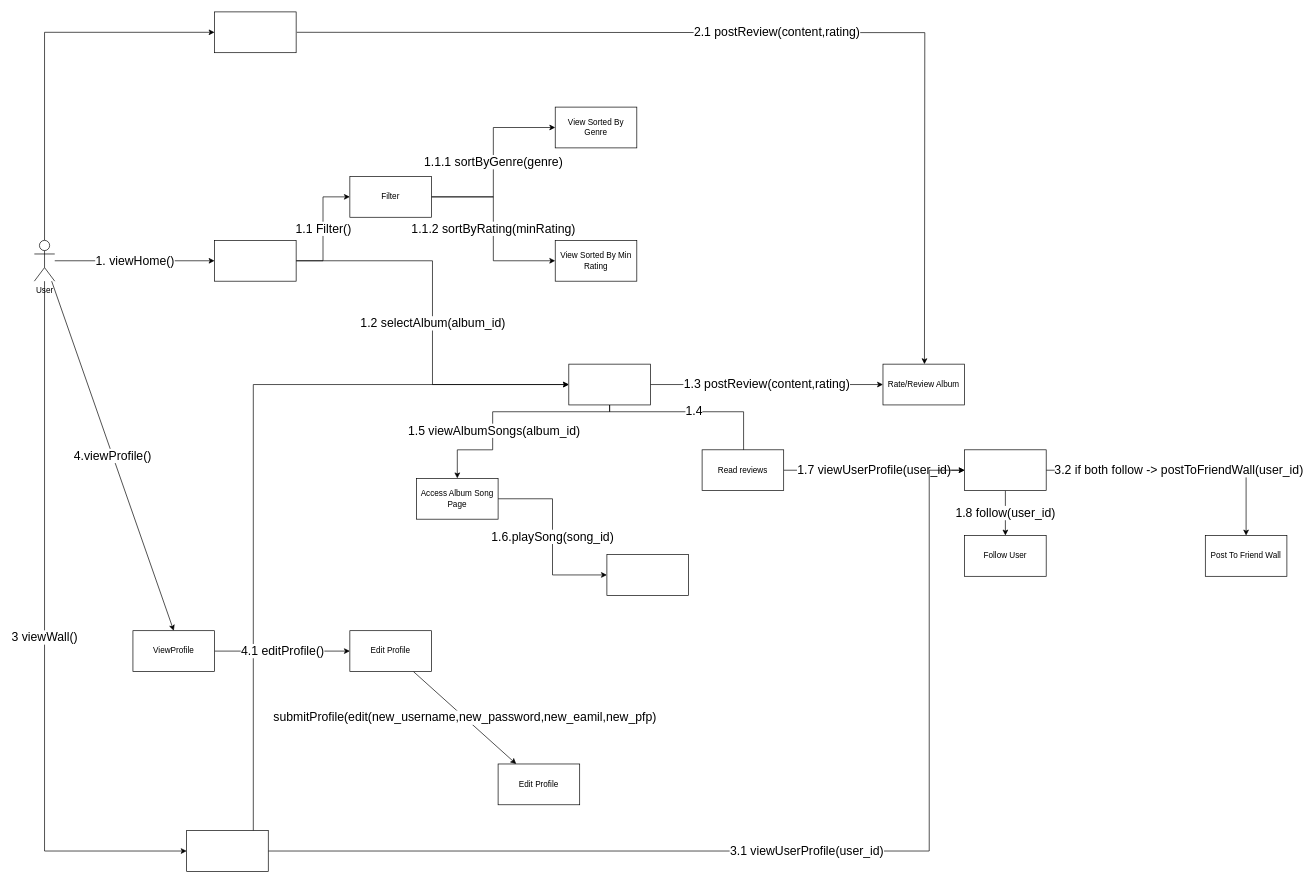
Image size: 1315x883. Some labels were removed from this diagram. Each missing label, with the box of its shape:
Access Album Page: (568, 363, 650, 405)
Listen To Song: (606, 554, 688, 595)
View For You Page: (214, 11, 296, 53)
View HomePage: (214, 240, 296, 281)
View User Profile: (964, 449, 1046, 491)
View Wall: (186, 830, 268, 871)
